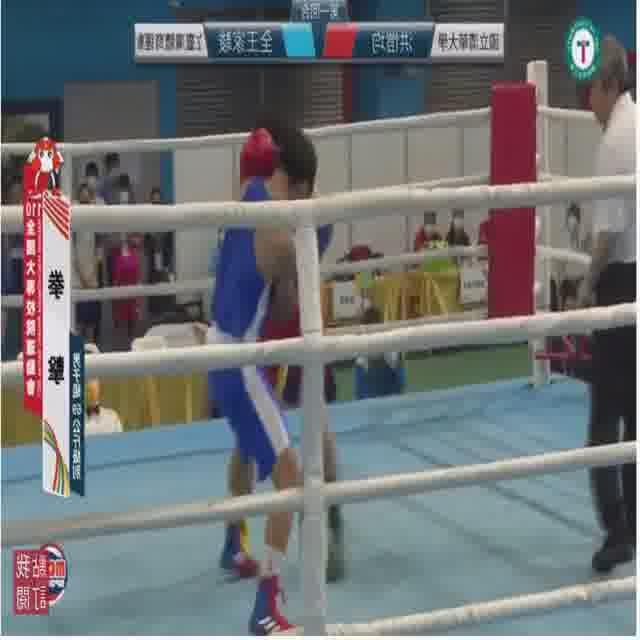blue-player: (203, 135, 335, 638)
red-player: (231, 120, 347, 581)
referee: (570, 32, 636, 577)
